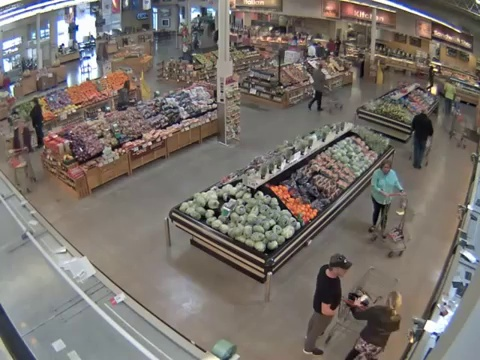face: (338, 264, 348, 277), (383, 163, 391, 172)
